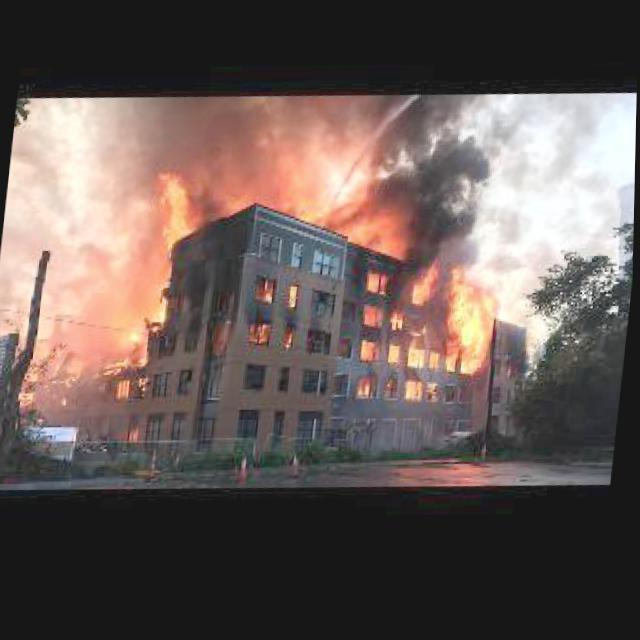Fire: (404, 261, 501, 417), (314, 178, 427, 287), (146, 162, 196, 255), (252, 277, 306, 349), (96, 345, 155, 403), (384, 312, 408, 376), (357, 375, 379, 406)
Smoke: (86, 81, 382, 254), (367, 89, 615, 293)
